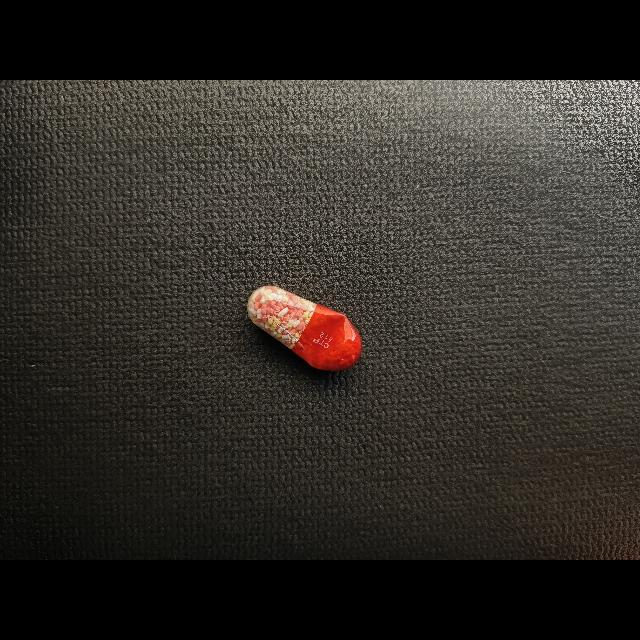Defective Capsule: (247, 285, 362, 371)
